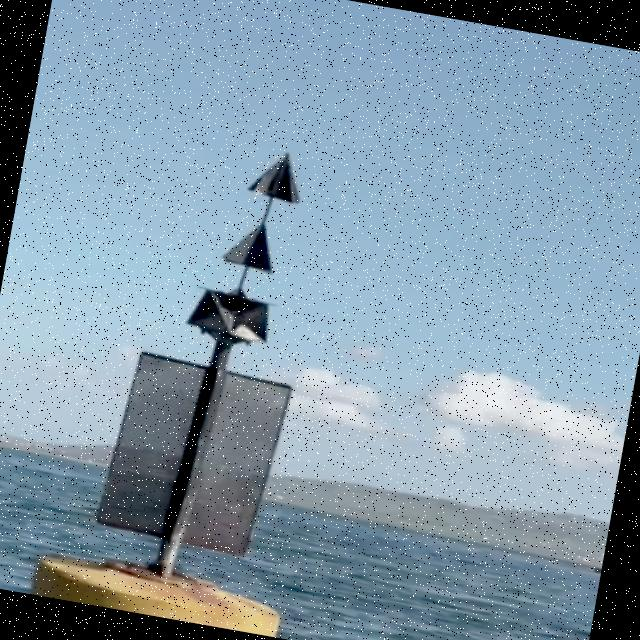marque: (29, 119, 367, 640)
